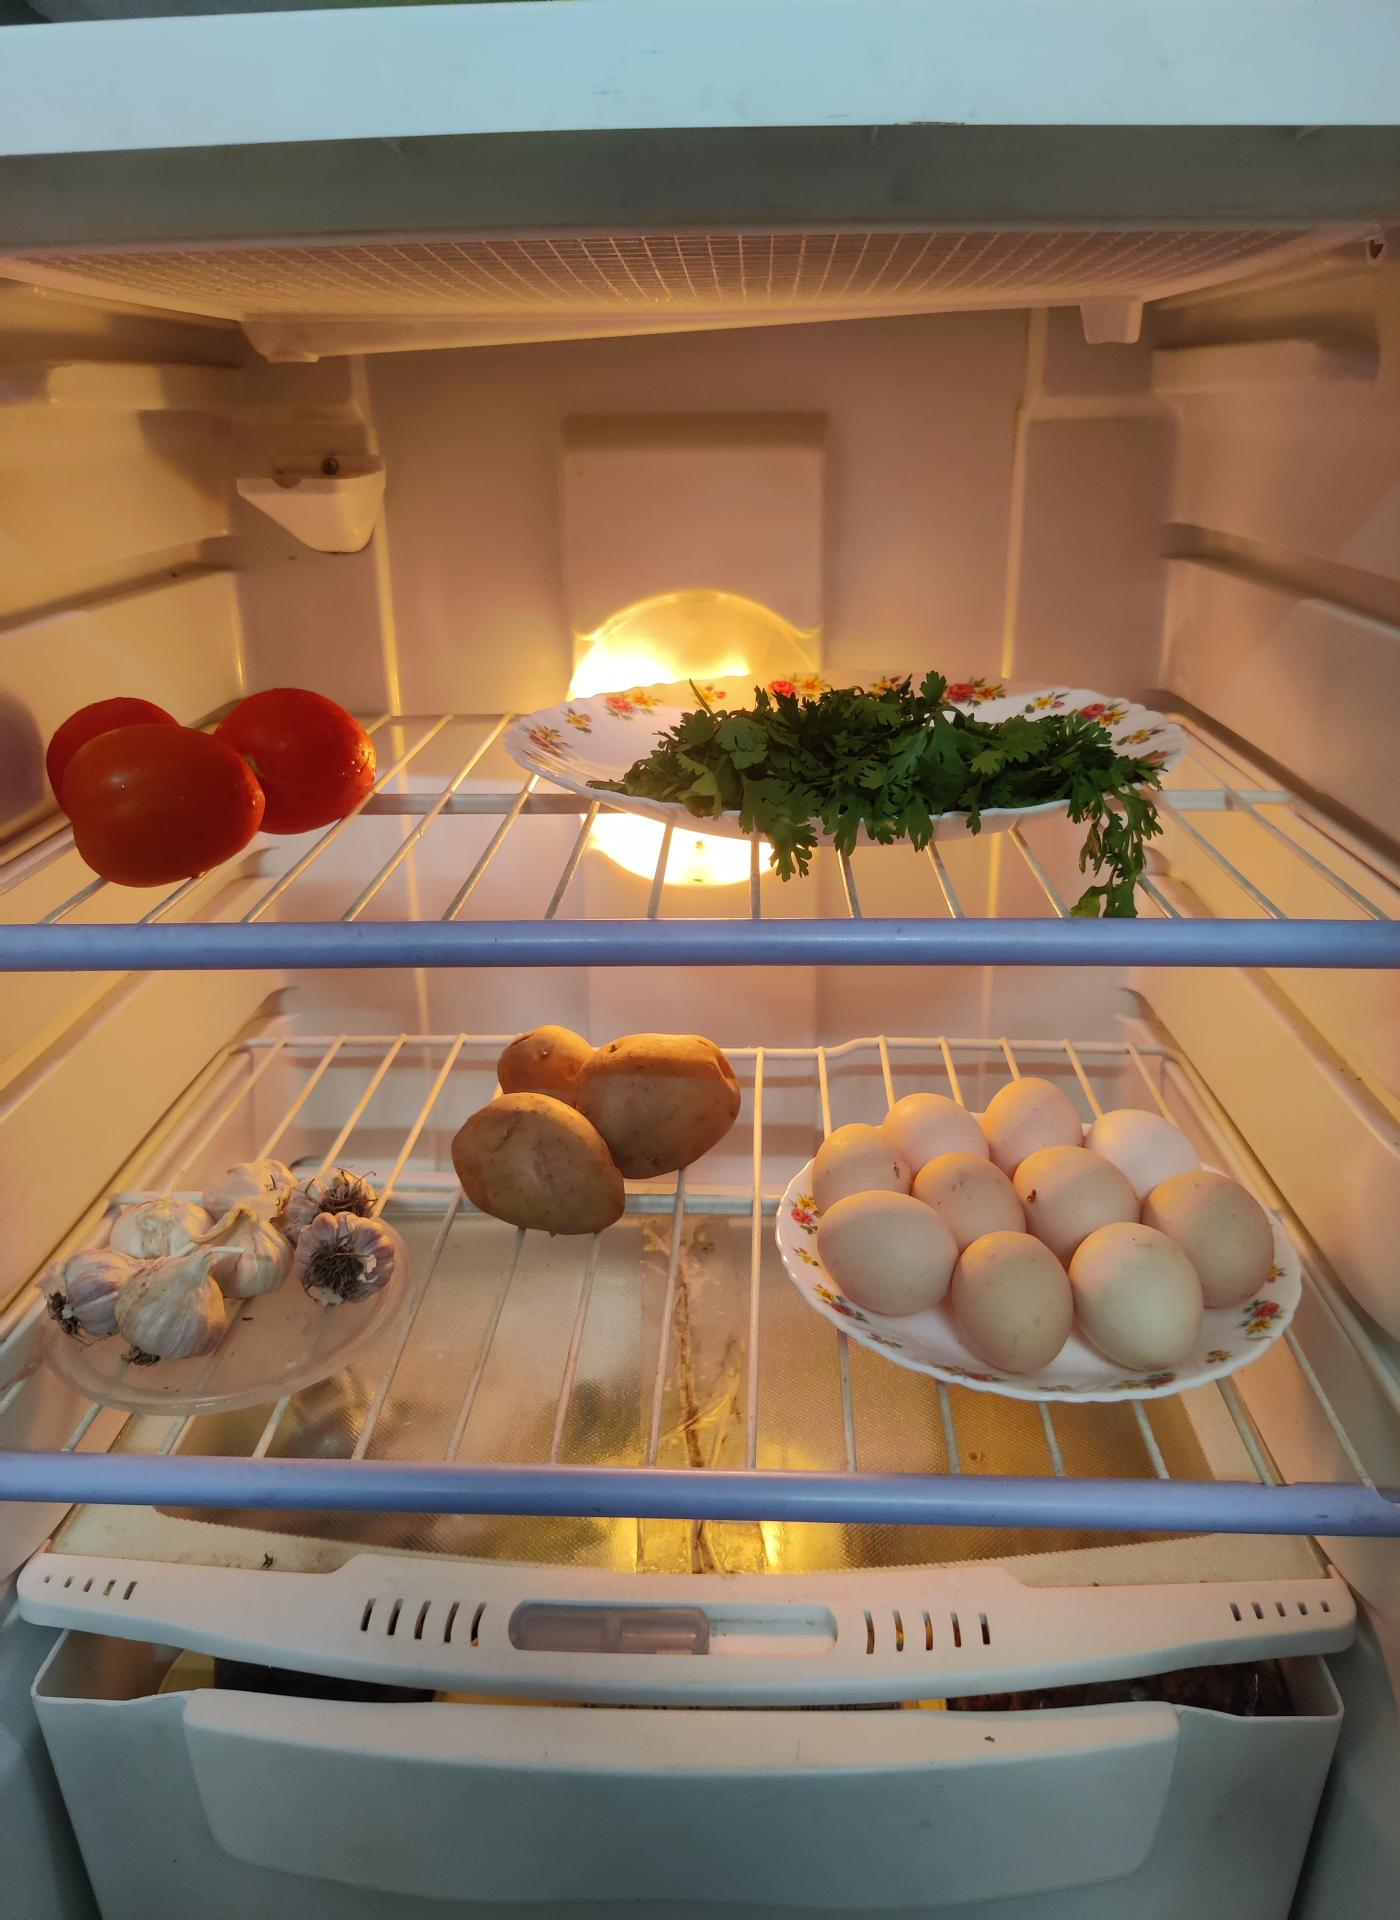coriander: (616, 677, 1178, 835)
egg: (792, 1085, 1276, 1374)
garlic: (49, 1175, 380, 1354)
potato: (456, 1020, 745, 1222)
tomato: (40, 687, 373, 881)
